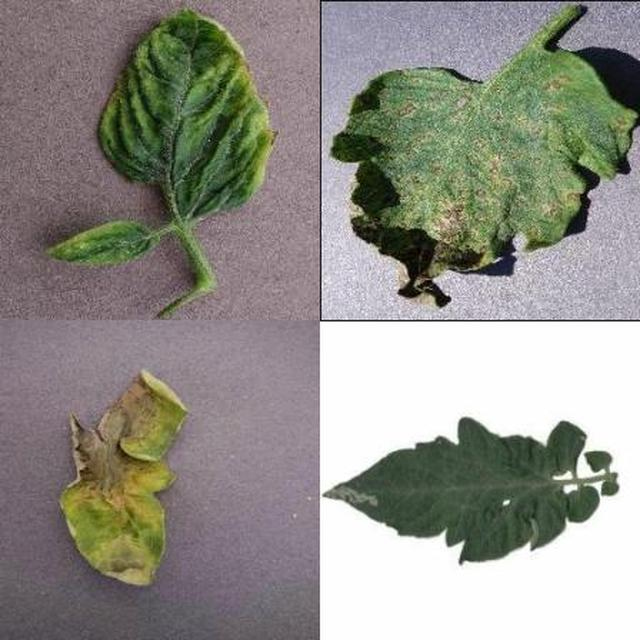Yellow Leaf Curl Virus: (177, 167, 640, 640)
